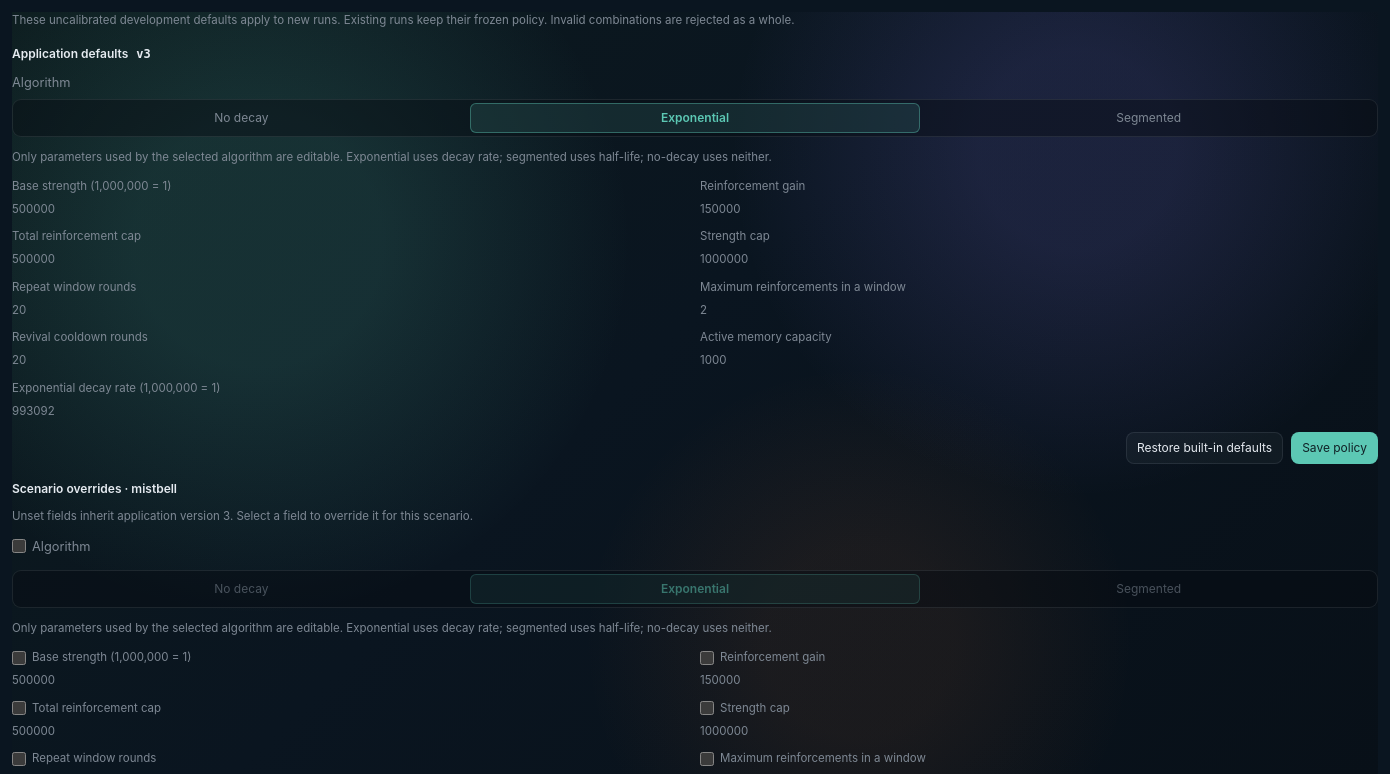
Test case: MemorySettingsPanel › saves the edited application policy with its observed version
Replace the text in the number field labelled "Base strength (1,000,000 = 1)" with "600000" at (351, 210), box x1=12 y1=201 x2=690 y2=218
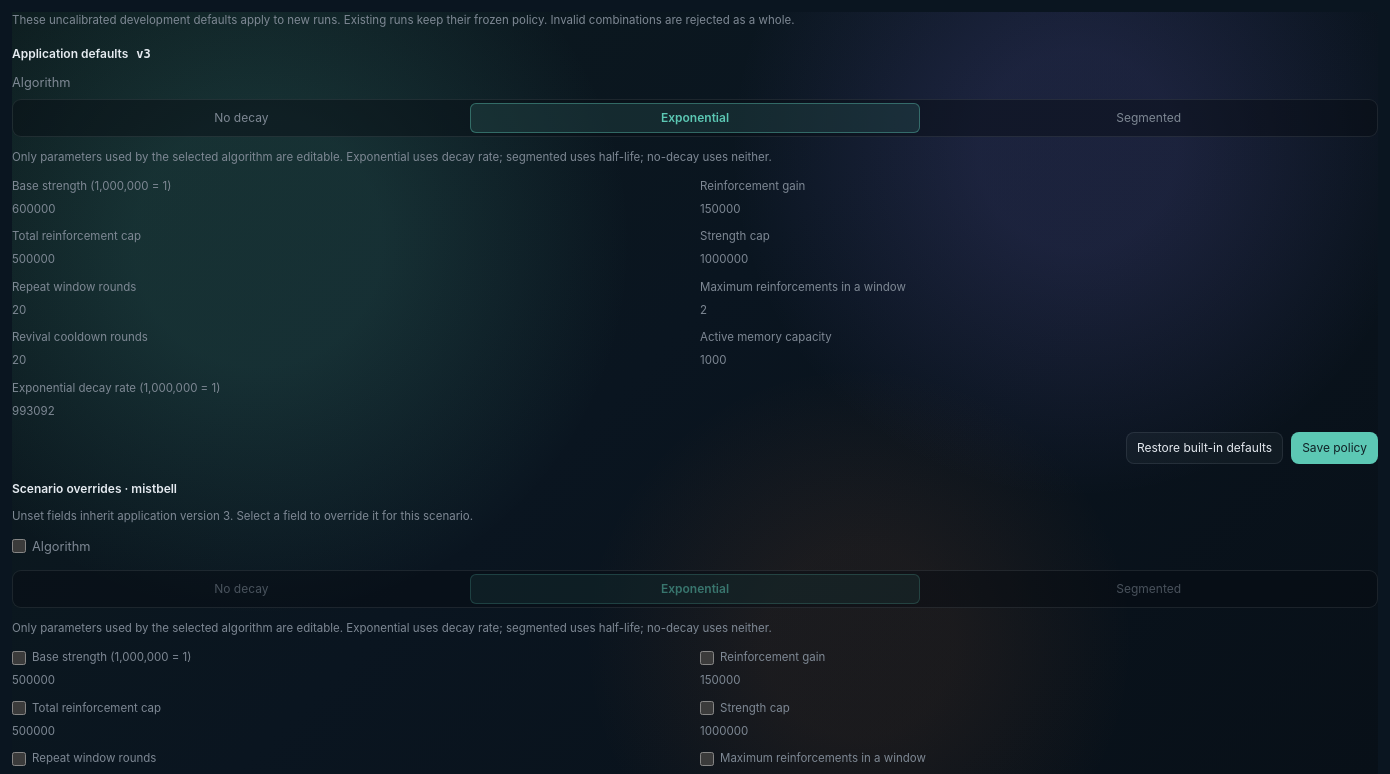
Submit the form that starts with "Algorithm", box x1=12 y1=73 x2=1378 y2=464
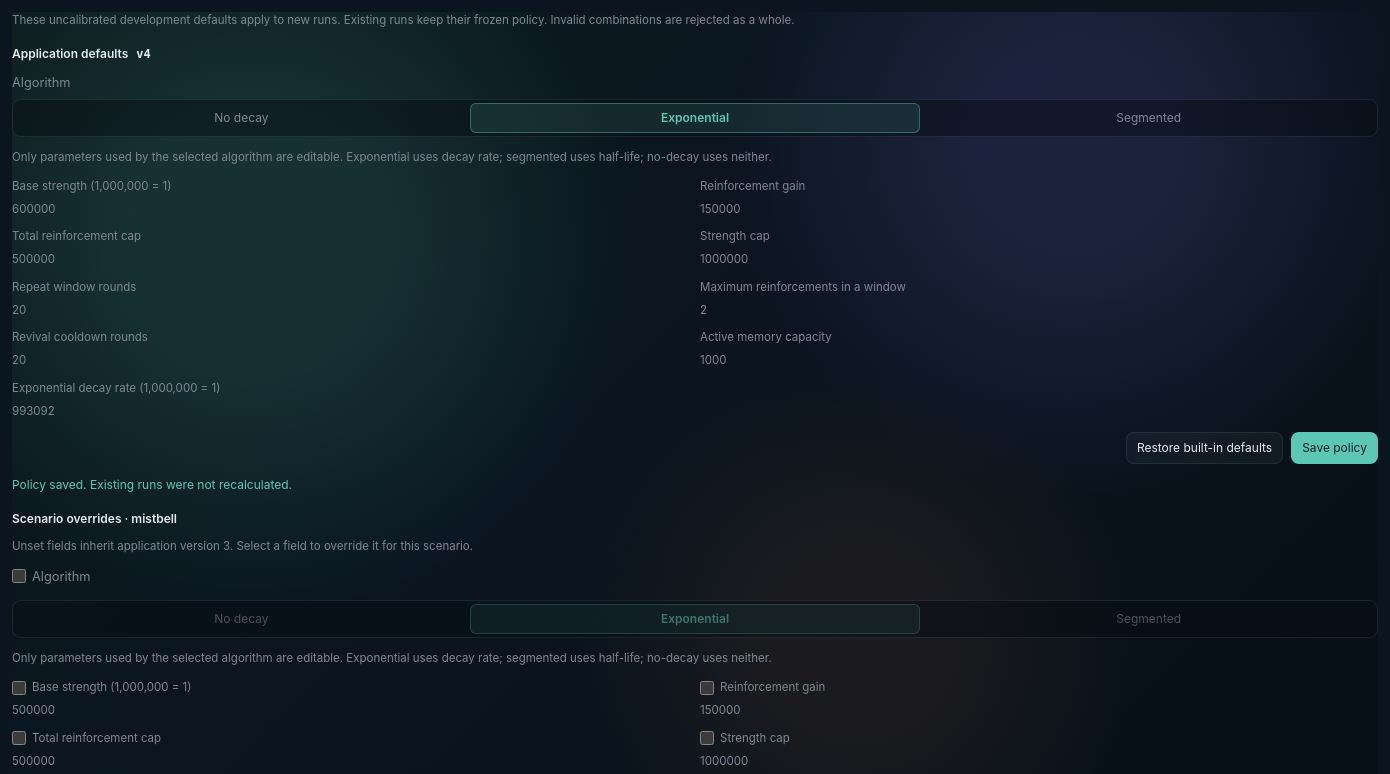
Check: the text "Policy saved" is shown, box x1=12 y1=477 x2=292 y2=492
